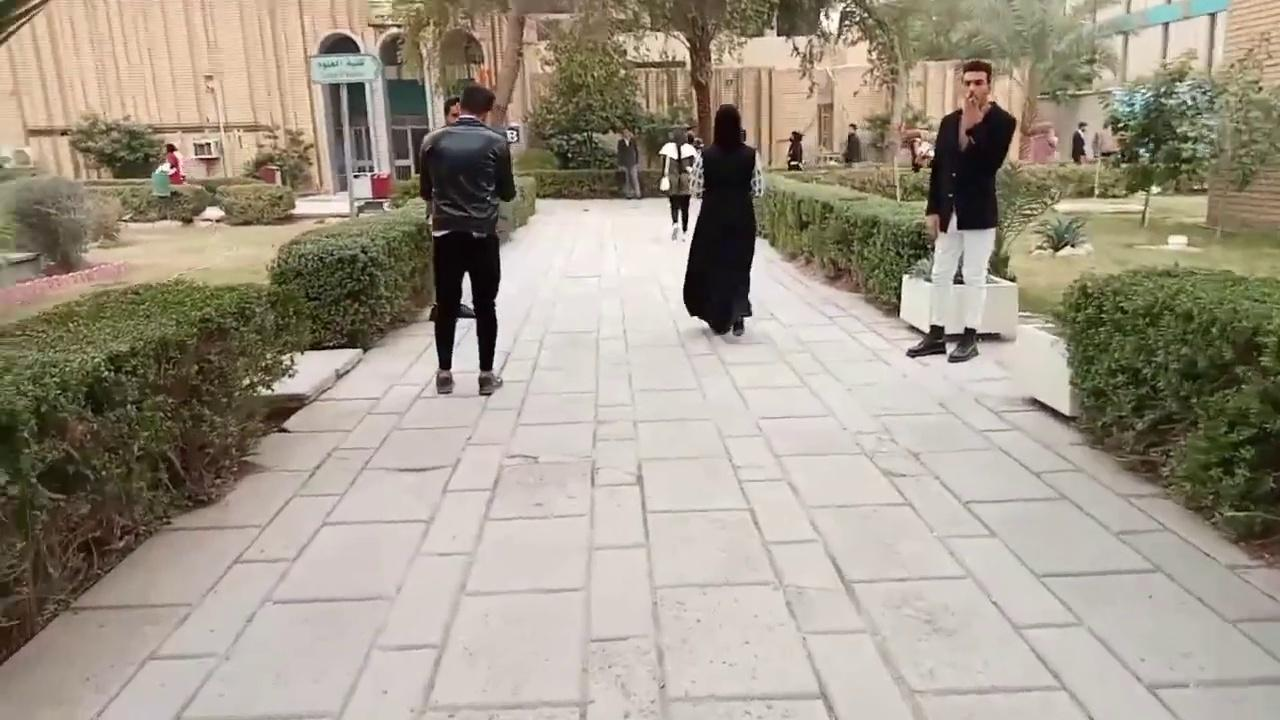person: (904, 59, 1017, 362), (418, 83, 515, 396), (682, 103, 763, 336), (418, 95, 476, 321), (657, 127, 698, 240), (617, 127, 642, 199), (1029, 122, 1058, 163), (1092, 120, 1120, 159), (910, 129, 935, 172), (163, 143, 185, 184), (1071, 121, 1089, 164), (843, 123, 861, 166), (786, 130, 803, 170)
tree: (0, 270, 310, 662), (1066, 280, 1280, 534), (368, 0, 647, 170), (909, 0, 1116, 163), (600, 0, 781, 148), (1097, 47, 1220, 227), (520, 22, 649, 169), (369, 0, 509, 132), (0, 146, 125, 286), (459, 0, 589, 129), (836, 0, 939, 149), (1206, 29, 1279, 193), (987, 159, 1063, 281), (66, 109, 164, 179), (240, 112, 315, 192), (1030, 214, 1088, 255)
